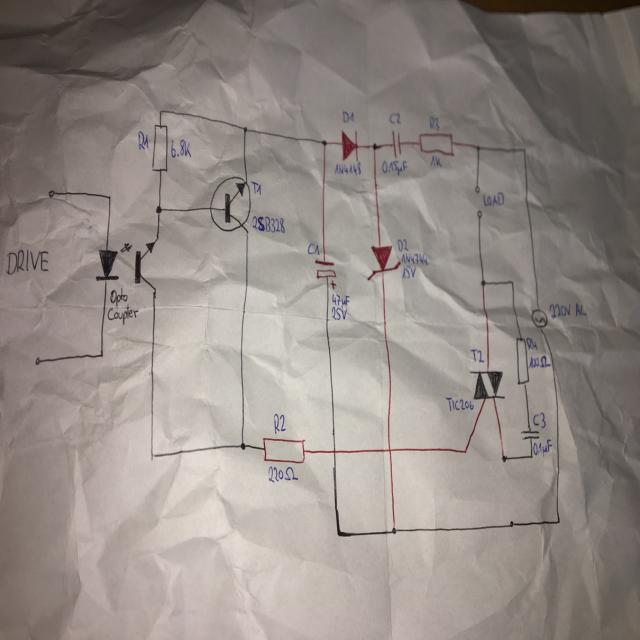capacitor: (313, 258, 337, 290), (389, 128, 404, 158), (519, 428, 540, 441)
crossover: (332, 447, 337, 454), (387, 446, 392, 453)
diode: (366, 243, 401, 281), (340, 128, 359, 162)
junction: (390, 521, 399, 535), (154, 203, 162, 215), (148, 451, 156, 461), (370, 141, 378, 151), (500, 454, 508, 463), (335, 528, 342, 538), (320, 138, 327, 146), (239, 441, 245, 450), (555, 516, 561, 525), (98, 351, 105, 358), (242, 125, 248, 133), (462, 446, 468, 454), (480, 278, 486, 286), (106, 192, 112, 200), (509, 278, 515, 285), (475, 144, 480, 150), (158, 108, 162, 114), (522, 146, 526, 152), (529, 454, 533, 458)
resistor: (262, 435, 306, 464), (417, 130, 455, 158), (150, 122, 168, 173), (514, 335, 531, 387)
source: (530, 308, 548, 328)
terminal: (473, 183, 481, 194), (475, 208, 483, 219), (47, 188, 55, 198), (34, 355, 42, 365)
text: (5, 246, 49, 276), (105, 303, 138, 326), (548, 301, 588, 319), (251, 214, 286, 234), (266, 464, 300, 484), (381, 158, 408, 176), (444, 396, 474, 412), (169, 138, 192, 158), (334, 160, 362, 176), (108, 286, 128, 307), (482, 190, 505, 208), (533, 438, 552, 458), (401, 251, 428, 265), (271, 412, 287, 434), (528, 354, 550, 369), (330, 292, 350, 308), (532, 410, 546, 429), (137, 129, 149, 150), (330, 306, 348, 320), (469, 348, 485, 363), (401, 264, 416, 279), (306, 241, 321, 256), (427, 115, 440, 132), (428, 154, 443, 168), (388, 110, 402, 125), (395, 237, 409, 251), (341, 109, 355, 123), (525, 336, 538, 351), (250, 180, 262, 196)
transistor: (209, 174, 251, 233)
